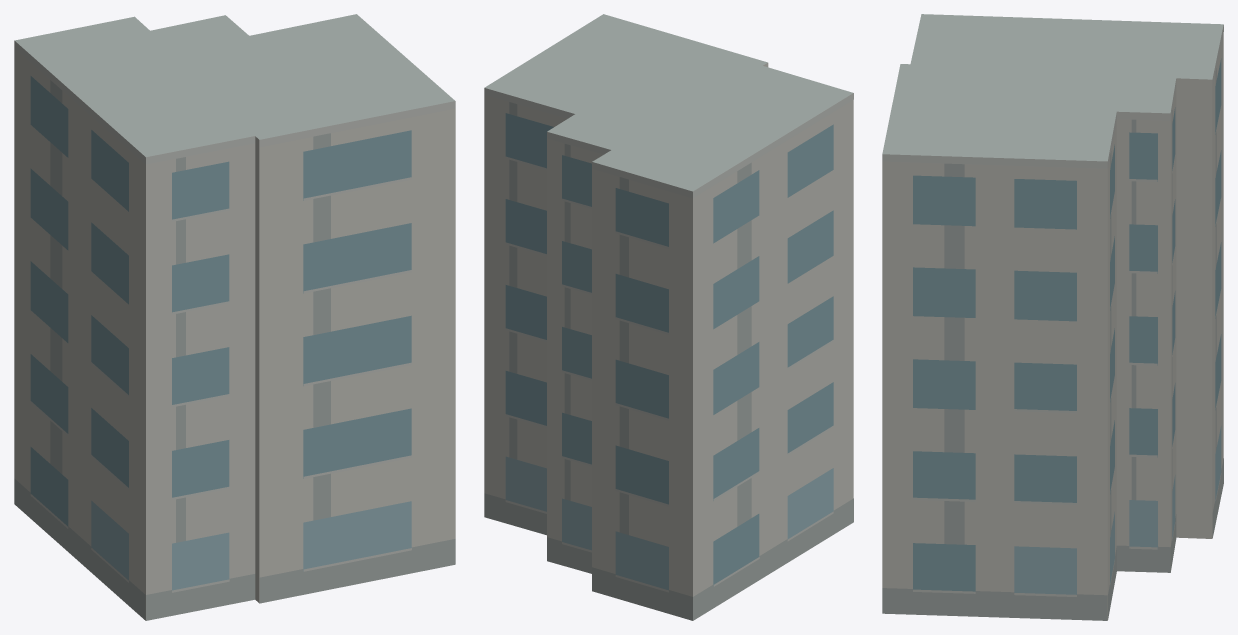
File: survey-upis-32820663.glb
3 views of the same model, side by side, from view 1: azimuth 30°, elevation 25°; view 2: azimuth 150°, elevation 25°; view 3: azimuth 270°, elevation 25° (orthographic). The views are drawn at different scales.
Parts seen in each view (by area): view 1: survey-upis-32820663.tmp; view 2: survey-upis-32820663.tmp; view 3: survey-upis-32820663.tmp.
Boxes of the visible parts, left/top/right/bottom form: survey-upis-32820663.tmp: left=14, top=14, right=455, bottom=620; survey-upis-32820663.tmp: left=484, top=14, right=853, bottom=620; survey-upis-32820663.tmp: left=882, top=14, right=1223, bottom=620.
Size of the model in its own units: 10.47 by 15.2 by 10.25.
